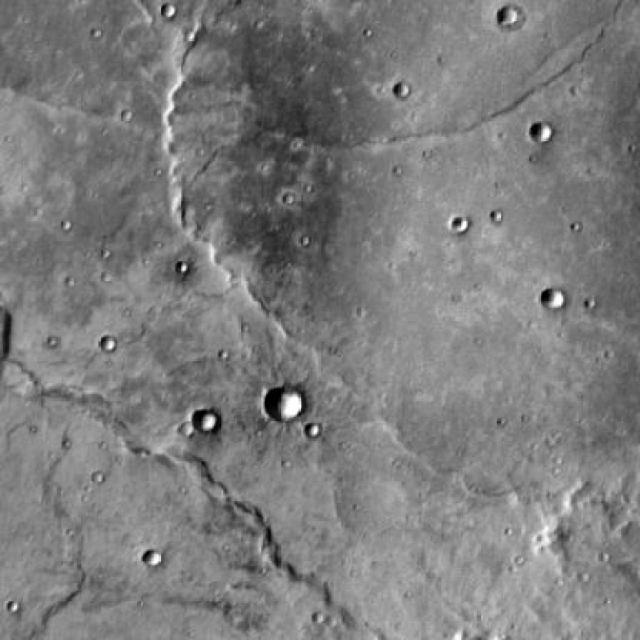crater: (266, 386, 305, 422), (544, 291, 567, 312), (194, 410, 217, 430), (532, 122, 554, 142), (498, 9, 518, 28), (142, 552, 160, 568), (394, 81, 411, 97)
